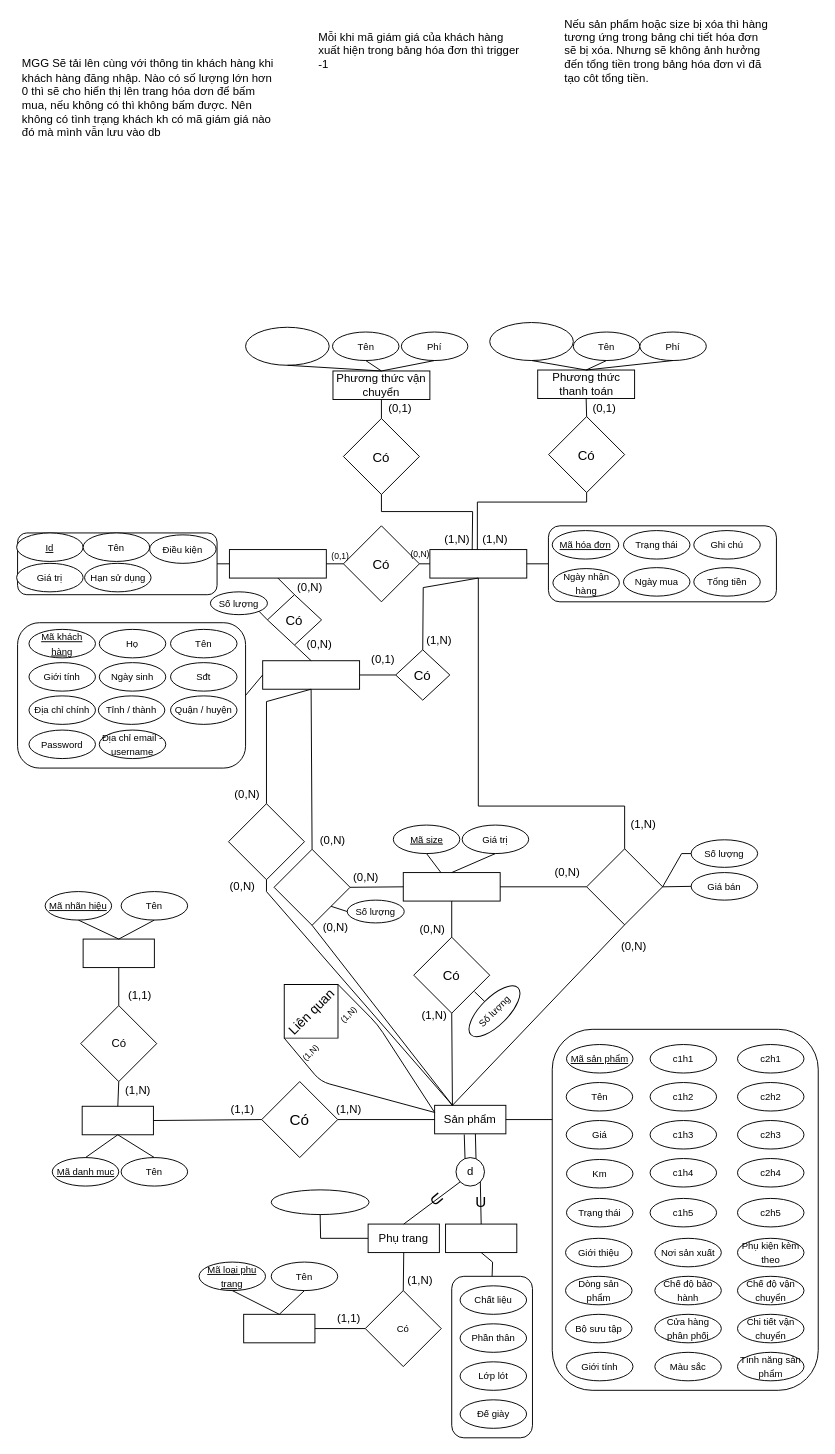
Image size: 835x1454. Some labels were removed from this diagram. Each missing label, with the centre of its shape:
"Danh mục" goes at [117,1120].
"Giày" goes at [481,1238].
"Giỏ hàng" goes at [311,886].
"Hóa đơn" goes at [478,563].
"HĐCT" goes at [624,886].
"Khách hàng" goes at [311,674].
"Kích thước sản phẩm" goes at [319,1202].
"Loại phụ trang" goes at [279,1328].
"Mã giảm giá" goes at [277,563].
"Mã phương thức thanh toán" goes at [531,341].
"Mã phương thức vận chuyển" goes at [287,345].
"Nhãn hiệu" goes at [118,953].
"Size" goes at [451,886].
"Yêu thích" goes at [266,841].
